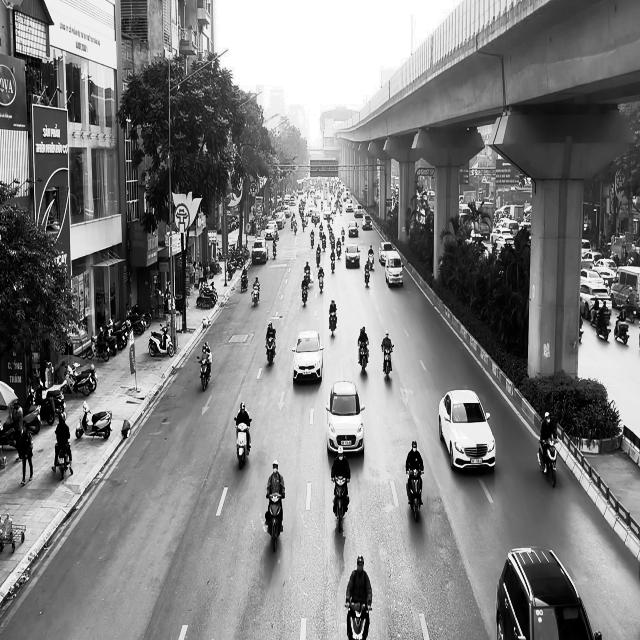car: (495, 546, 602, 639), (438, 388, 496, 471), (325, 380, 365, 455), (291, 329, 324, 383), (385, 252, 403, 288), (251, 239, 268, 264), (345, 243, 360, 268), (348, 220, 359, 237)
motorbike: (75, 400, 112, 440), (265, 489, 285, 552), (331, 474, 350, 533), (345, 600, 372, 639), (537, 437, 557, 487), (406, 466, 424, 521), (234, 418, 251, 470), (52, 439, 72, 480), (197, 356, 211, 391), (382, 345, 394, 379), (357, 340, 369, 373), (265, 334, 276, 364), (329, 310, 337, 335), (251, 285, 260, 306), (364, 264, 370, 286), (302, 284, 308, 306)
